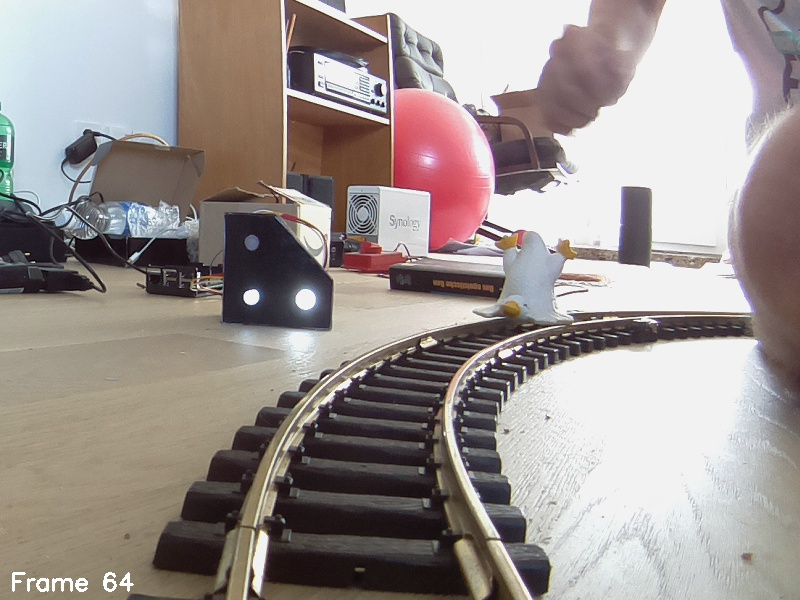Halt: (222, 211, 332, 334)
